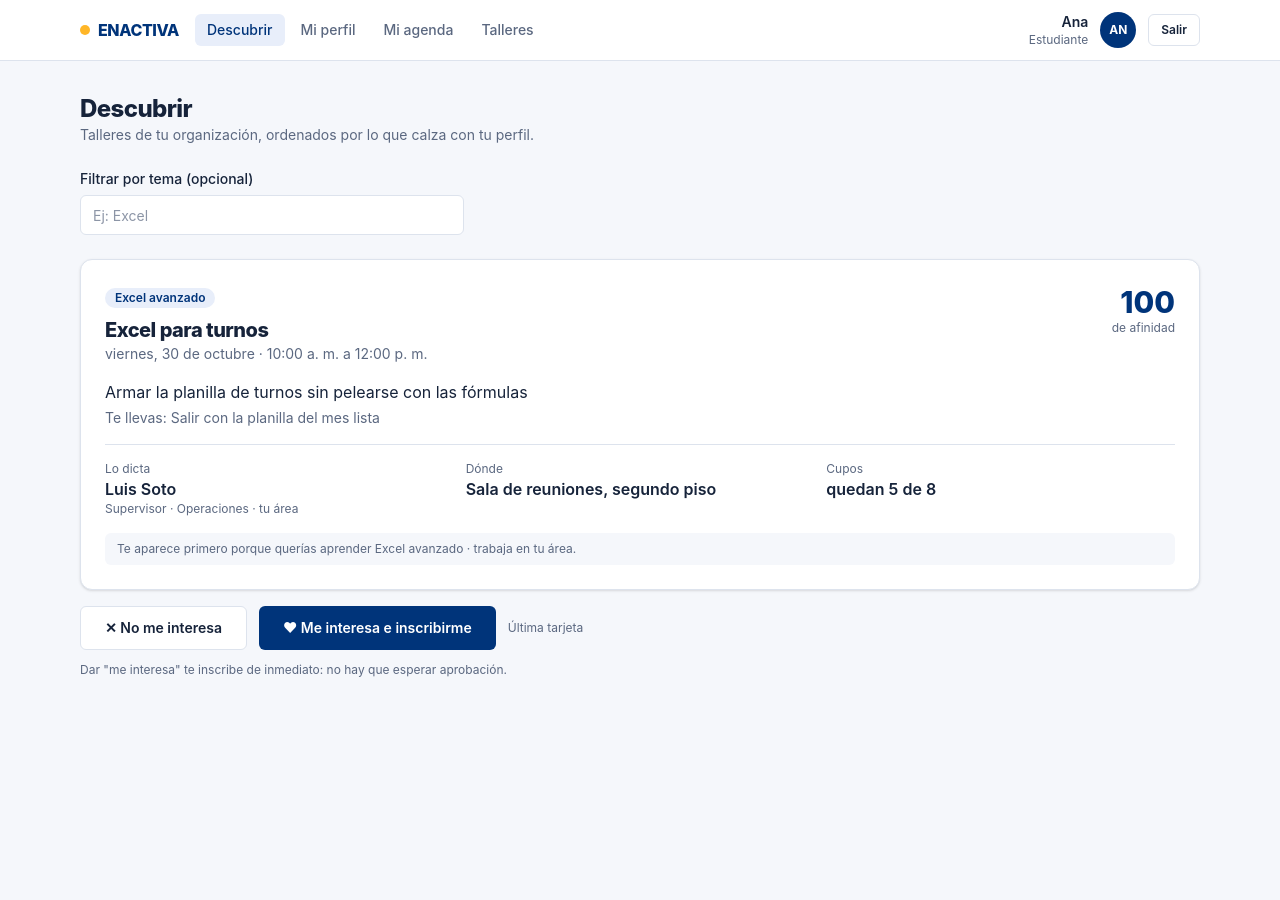
Test case: Descubrir (el mazo del swipe) › avisa cuando el cupo se llenó entremedio
Click the button "♥ Me interesa e inscribirme" at (377, 628), box [259,606,496,650]
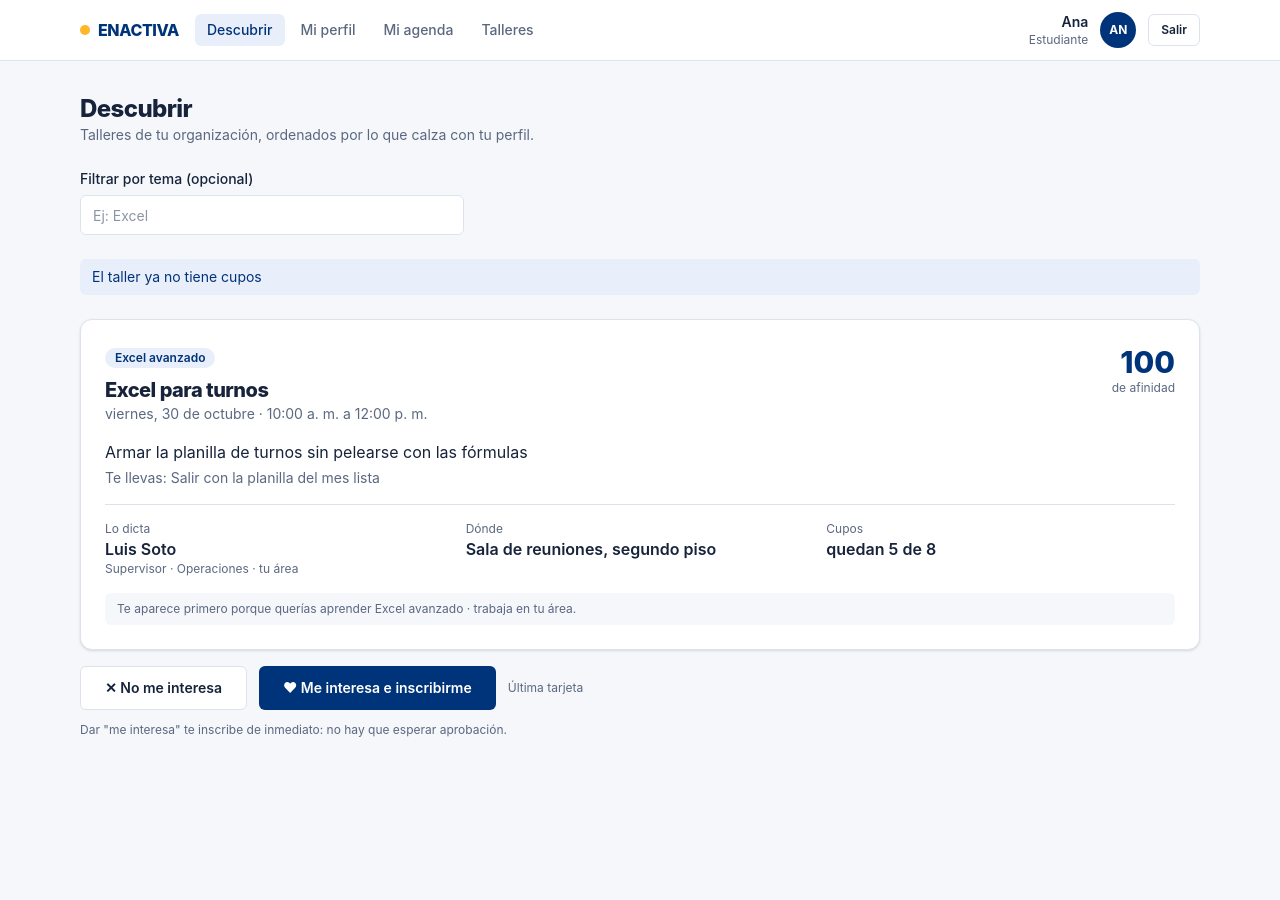
Now the message reads "El taller ya no tiene cupos", box [92,268,262,285]
